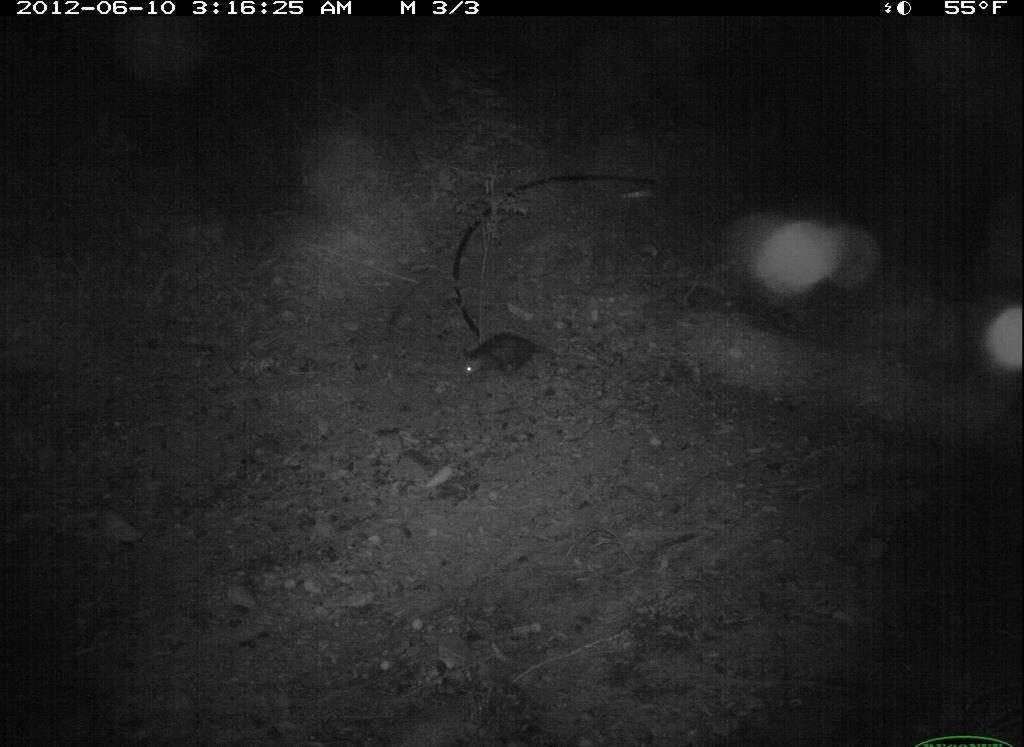opossum: (451, 324, 562, 399)
